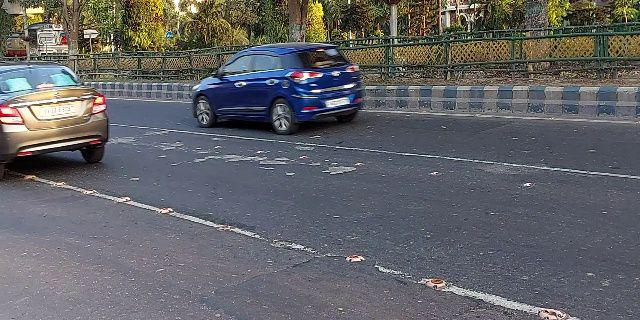Car: (190, 42, 372, 138), (1, 61, 111, 179)
